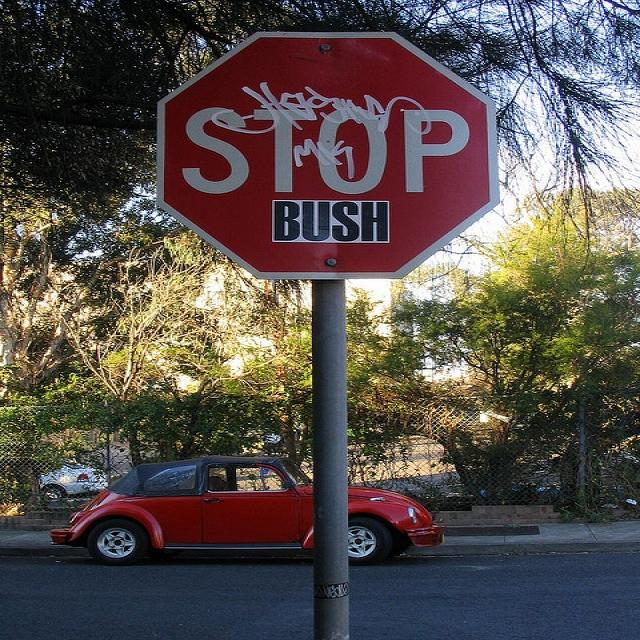car: (57, 454, 447, 562), (36, 457, 105, 499)
pole: (297, 278, 363, 635)
